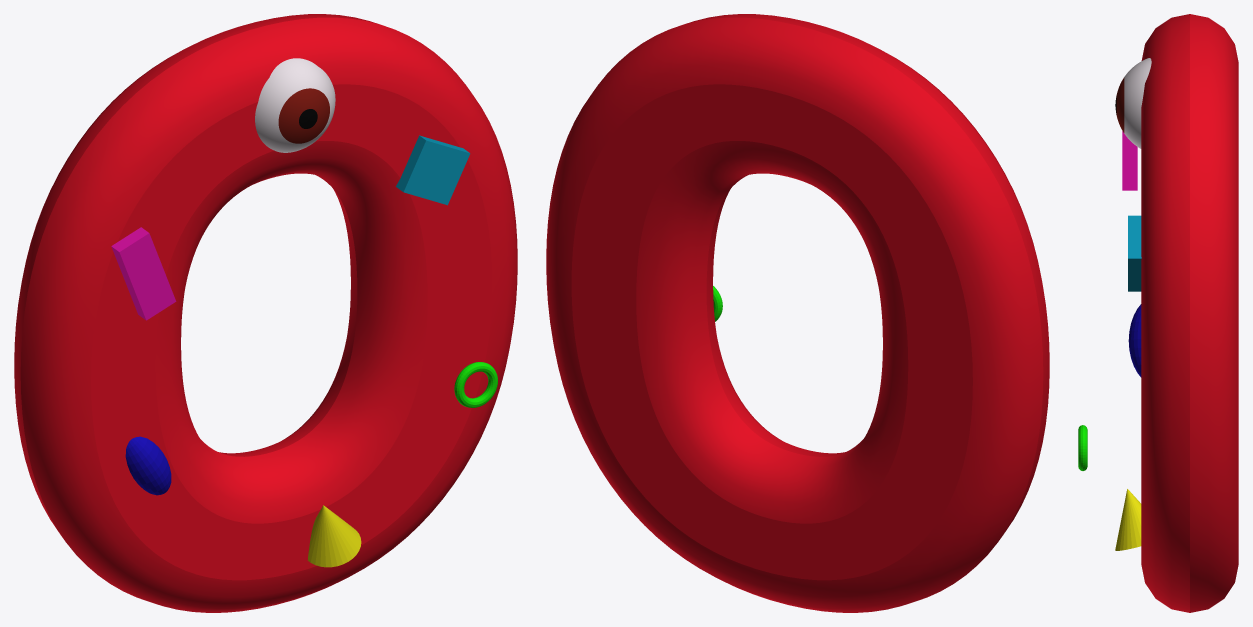
Rendered from o_red.fbx.
3 views of the same model, side by side, from view 1: azimuth 30°, elevation 25°; view 2: azimuth 150°, elevation 25°; view 3: azimuth 270°, elevation 25° (orthographic). The views are drawn at different scales.
Visible parts, largest first — view 1: Text, Sphere, Cube.001, Cube, Cone, Sphere.002, Torus; view 2: Text; view 3: Text, Sphere, Cone, Cube, Cube.001, Sphere.002, Torus.
Boxes of the visible parts, x1=… form: Text: x1=14, y1=14, x2=517, y2=612; Sphere: x1=255, y1=58, x2=335, y2=152; Cube.001: x1=111, y1=227, x2=176, y2=320; Cube: x1=396, y1=135, x2=470, y2=205; Cone: x1=307, y1=505, x2=361, y2=567; Sphere.002: x1=125, y1=436, x2=171, y2=495; Torus: x1=454, y1=362, x2=497, y2=407; Text: x1=546, y1=14, x2=1049, y2=612; Text: x1=1141, y1=14, x2=1238, y2=612; Sphere: x1=1115, y1=58, x2=1151, y2=148; Cone: x1=1115, y1=489, x2=1141, y2=550; Cube: x1=1128, y1=215, x2=1141, y2=291; Cube.001: x1=1122, y1=131, x2=1137, y2=190; Sphere.002: x1=1128, y1=304, x2=1141, y2=377; Torus: x1=1078, y1=425, x2=1087, y2=470.
Size of the model in its own units: 109 by 122 by 32.52.
